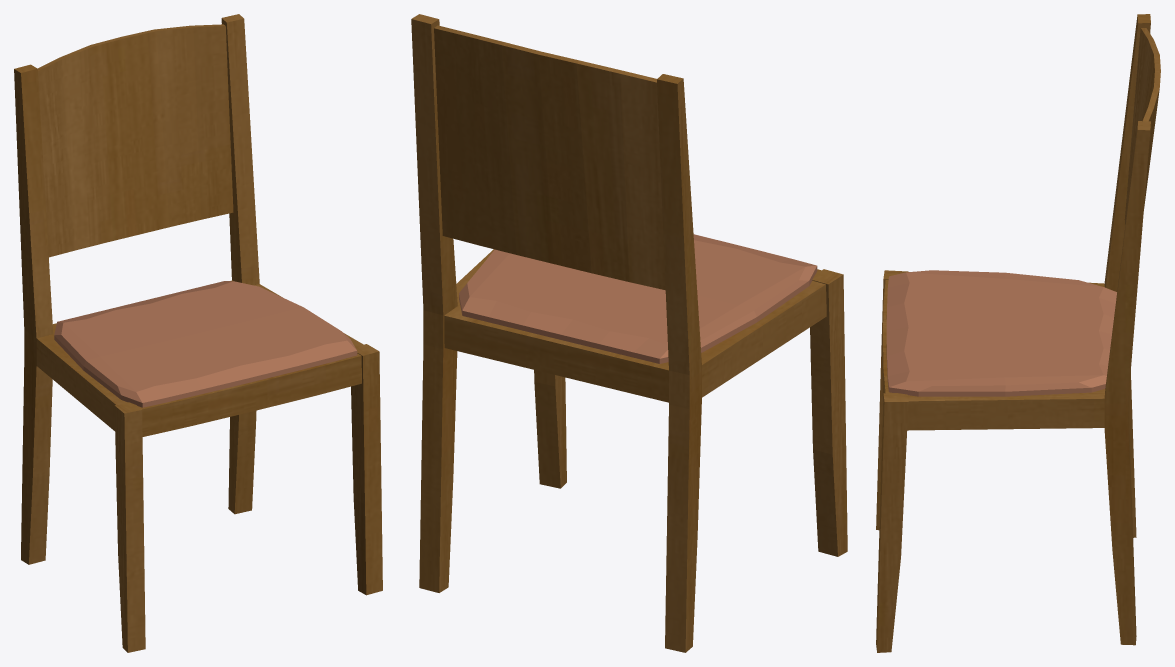
The model's file is sh_scopia_chair4.glb.
The picture shows the model from 3 angles, left to right: view 1: azimuth 30°, elevation 25°; view 2: azimuth 150°, elevation 25°; view 3: azimuth 270°, elevation 25°; orthographic projection. The views are drawn at different scales.
Size of the model in its own units: 0.484 by 0.884 by 0.442.
Materials: 2 (1 with a texture image).
